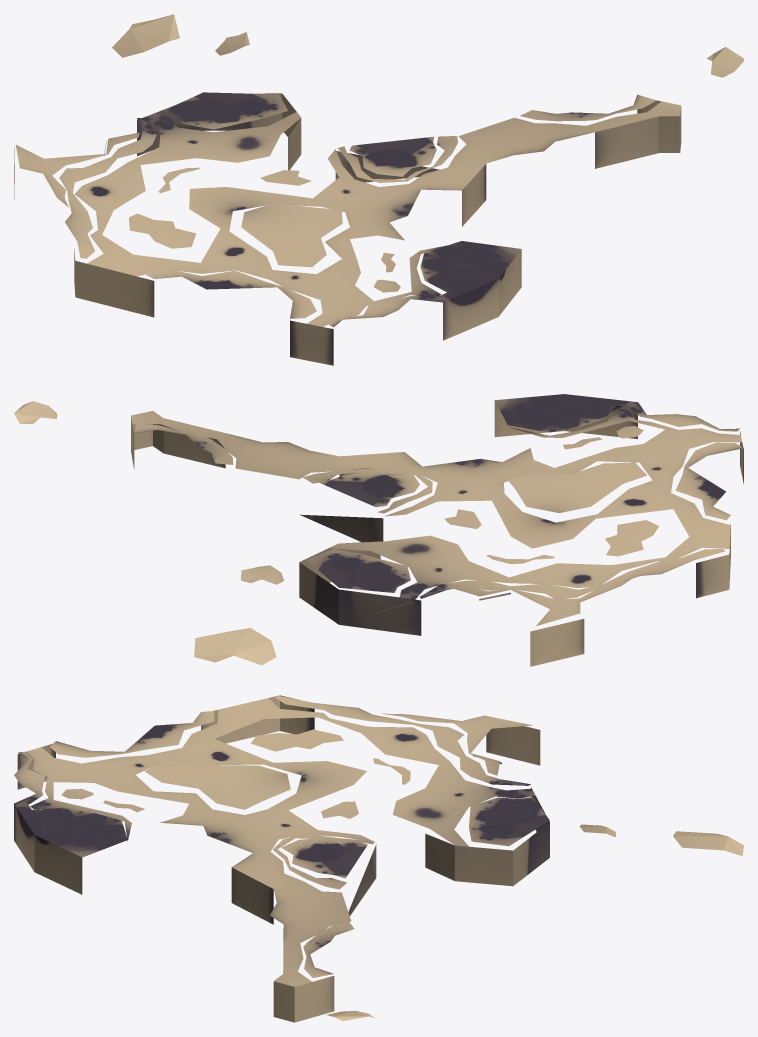
The model's file is Ground_01.FBX.
3 renders of one model, top to bottom at view 1: azimuth 30°, elevation 25°; view 2: azimuth 150°, elevation 25°; view 3: azimuth 270°, elevation 25°, orthographic. The views are drawn at different scales.
Visible parts, largest first — view 1: Ground_01; view 2: Ground_01; view 3: Ground_01.
Boxes of the visible parts, x1=… form: Ground_01: x1=14, y1=14, x2=743, y2=365; Ground_01: x1=14, y1=394, x2=743, y2=666; Ground_01: x1=14, y1=695, x2=743, y2=1022.
Bounding box in the file's own units: 41.55 × 3.4 × 38.48.
